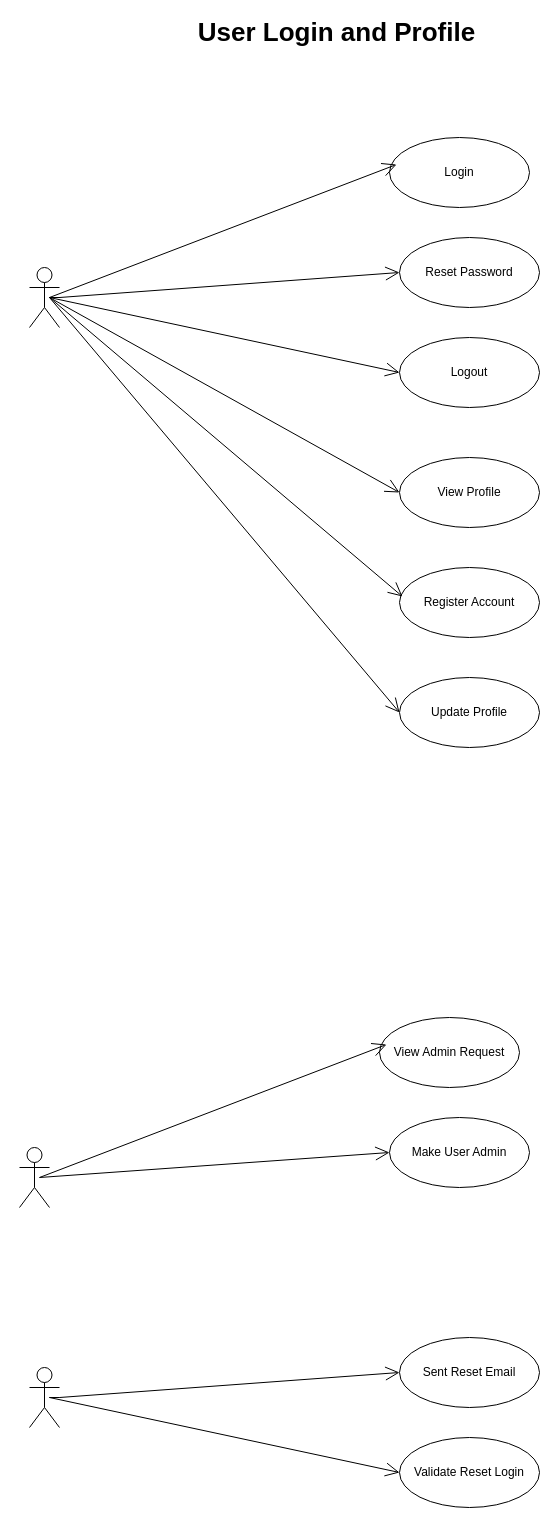
Image size: 557x1525. Some labels were removed from this diagram. The box of each missing label's shape, as (x1, y1, x2, y2) in pixels:
Admin: (18, 1146, 50, 1208)
System: (28, 1366, 60, 1428)
User: (28, 266, 60, 328)
